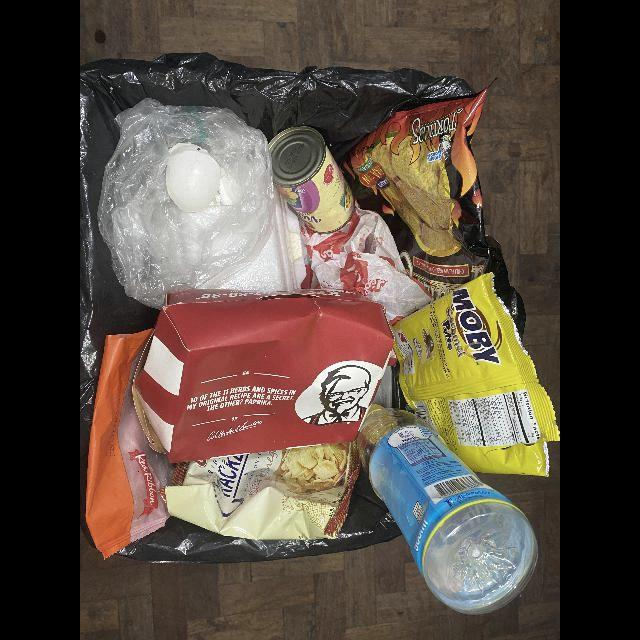aluminum: (269, 126, 355, 235)
cardboard: (133, 289, 395, 463)
food_wrapper: (337, 78, 527, 341), (390, 272, 560, 480), (86, 328, 177, 560), (156, 441, 361, 540)
paper: (298, 198, 433, 325)
plastic_bag: (97, 97, 277, 310)
plastic_bottle: (357, 404, 539, 615)
